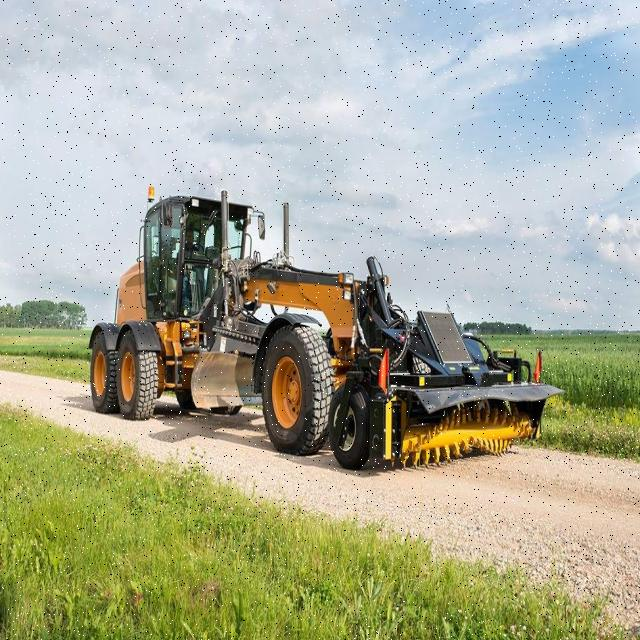Grader: (85, 188, 378, 464)
